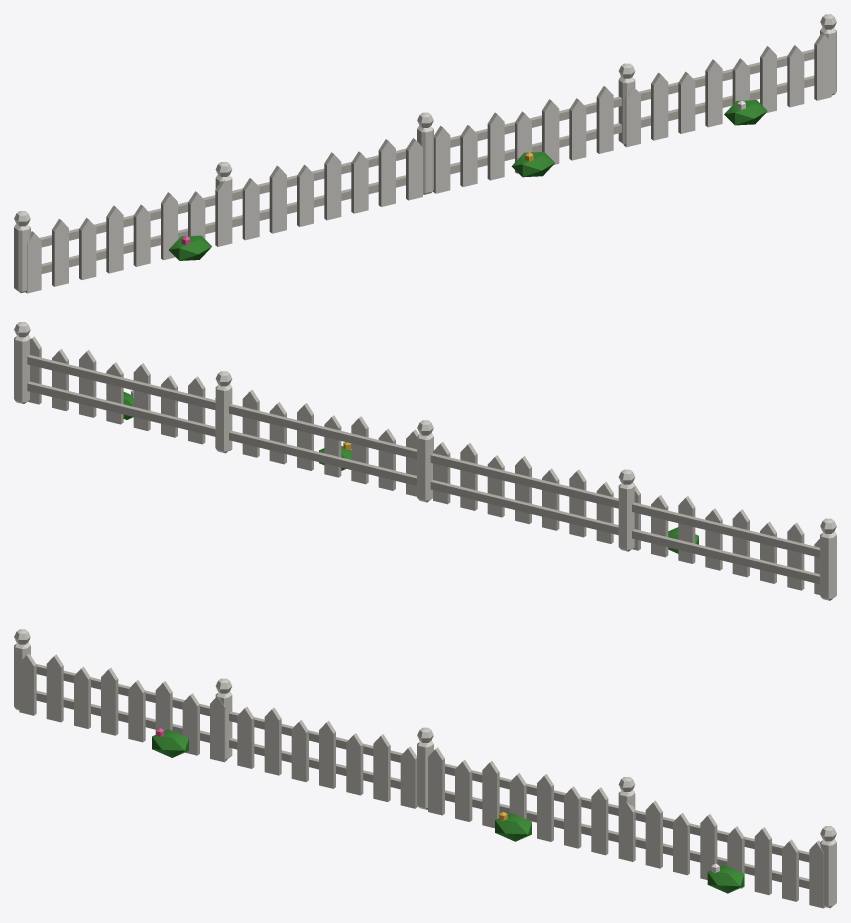
Rendered from edge_end.glb.
The picture shows the model from 3 angles, top to bottom: view 1: azimuth 30°, elevation 25°; view 2: azimuth 150°, elevation 25°; view 3: azimuth 330°, elevation 25°; orthographic projection.
Visible parts, largest first — view 1: body; view 2: body; view 3: body.
Boxes of the visible parts, bbox=[...] form: body: bbox=[14, 14, 836, 293]; body: bbox=[14, 322, 836, 600]; body: bbox=[14, 629, 836, 908].
Bounding box in the file's own units: 9.02 × 0.84 × 0.43.
